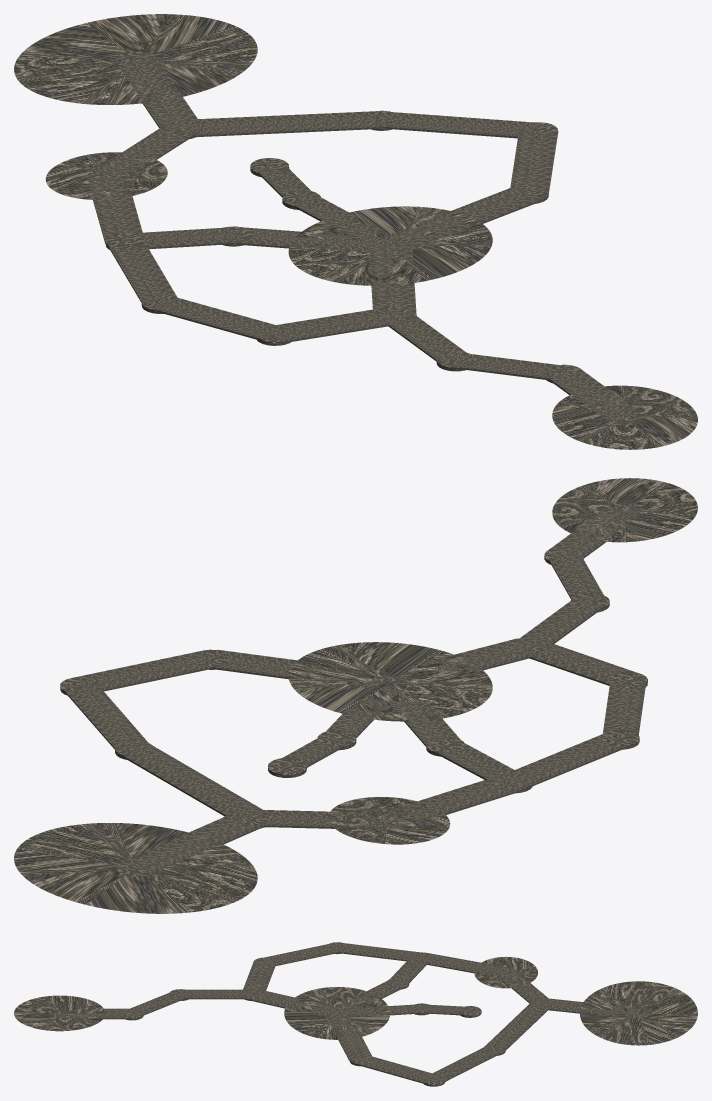
File: stone_paths.glb
3 renders of one model, top to bottom at view 1: azimuth 30°, elevation 25°; view 2: azimuth 150°, elevation 25°; view 3: azimuth 270°, elevation 25°, orthographic. The views are drawn at different scales.
Visible parts, largest first — view 1: stone_paths0; view 2: stone_paths0; view 3: stone_paths0.
Part boxes in pixels (x1,y1,x2,y2): stone_paths0: (14, 14, 697, 449); stone_paths0: (14, 478, 697, 913); stone_paths0: (14, 942, 697, 1086).
Bounding box in the file's own units: 27.92 × 0.2 × 56.7.
1 material, 1 textured.
